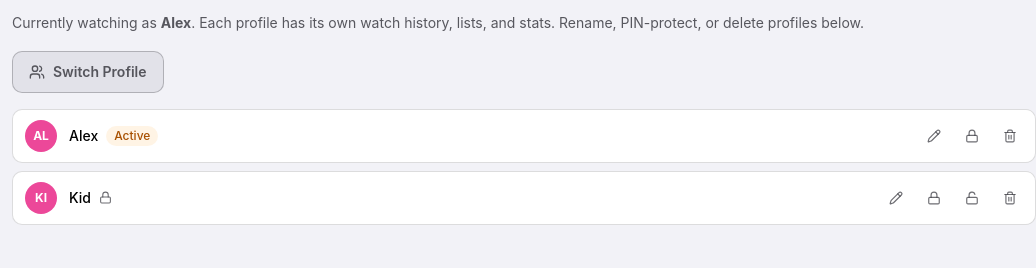
it: ProfileSettings PINs › names a wrong current PIN as such, not as a generic failure
Click the button named "Change PIN for Kid" at coordinates (934, 198), box [921,185,947,211]
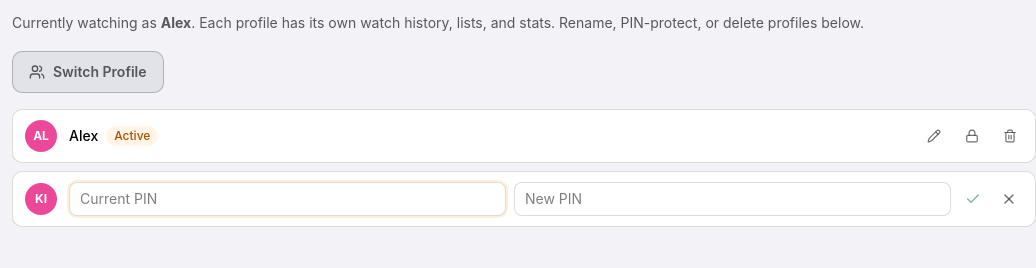
Type "0000" into the password field named "Current PIN for Kid" at coordinates (288, 199), box [69,182,506,216]
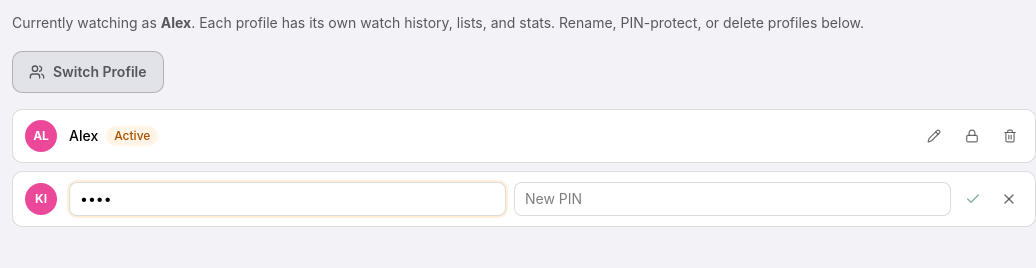
Type "9999" into the password field named "New PIN for Kid" at coordinates (732, 199), box [514,182,951,216]
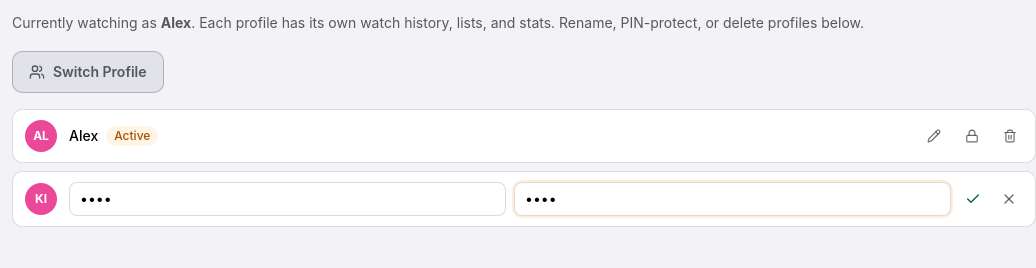
Click the button named "Save PIN" at coordinates (973, 199), box [959,185,987,213]
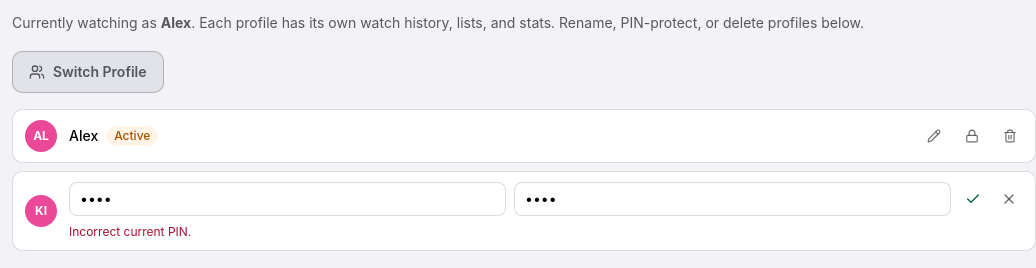
Result: the text "Incorrect current PIN." is shown at [69,224,191,239]
